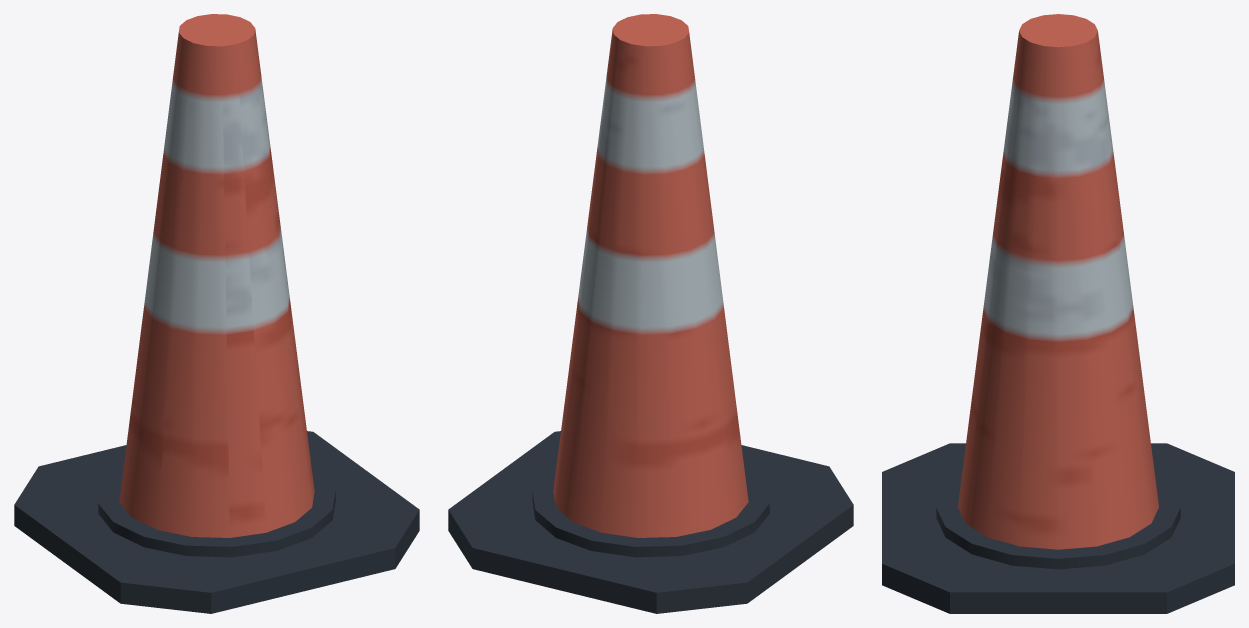
File: luzhang.fbx
The picture shows the model from 3 angles, left to right: view 1: azimuth 30°, elevation 25°; view 2: azimuth 150°, elevation 25°; view 3: azimuth 270°, elevation 25°; orthographic projection. The views are drawn at different scales.
Visible parts, largest first — view 1: 锥体; view 2: 锥体; view 3: 锥体.
Boxes of the visible parts, left/top/right/bottom form: 锥体: left=14, top=14, right=419, bottom=613; 锥体: left=448, top=14, right=853, bottom=613; 锥体: left=882, top=14, right=1234, bottom=613.
Size of the model in its own units: 69.74 by 111 by 69.74.
